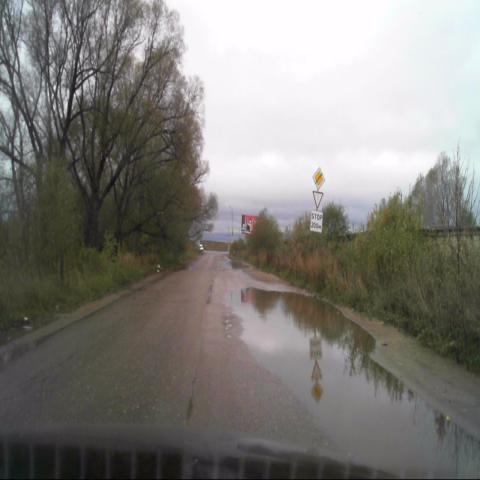2_2: (312, 165, 325, 189)
